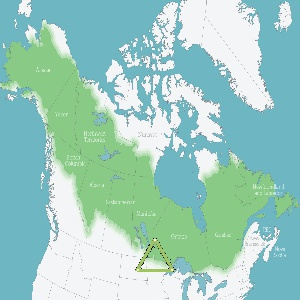triangle: (133, 236, 178, 275)
